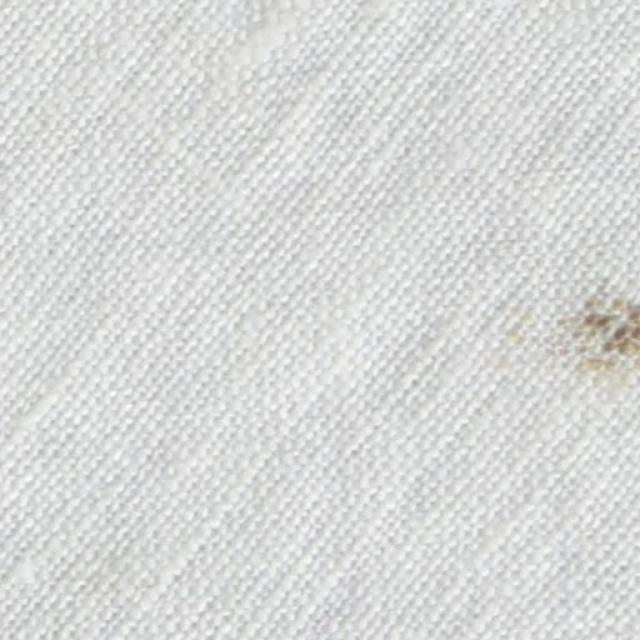Stain: (565, 288, 639, 381)
